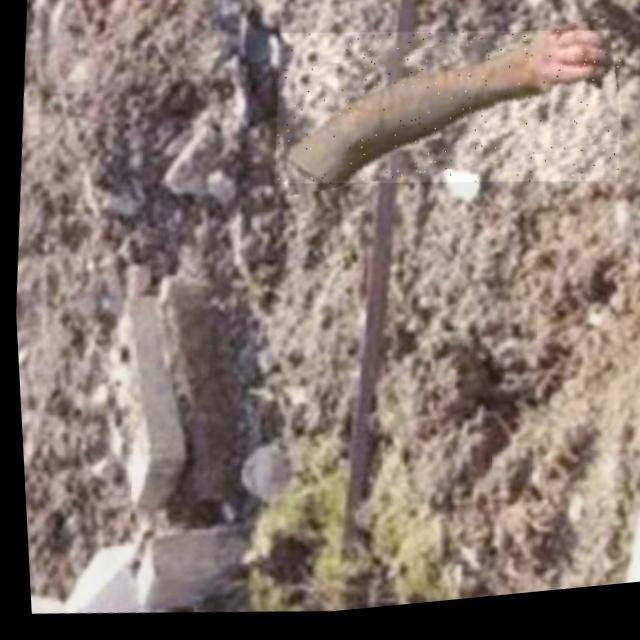Person in Rubble: (266, 12, 628, 218)
